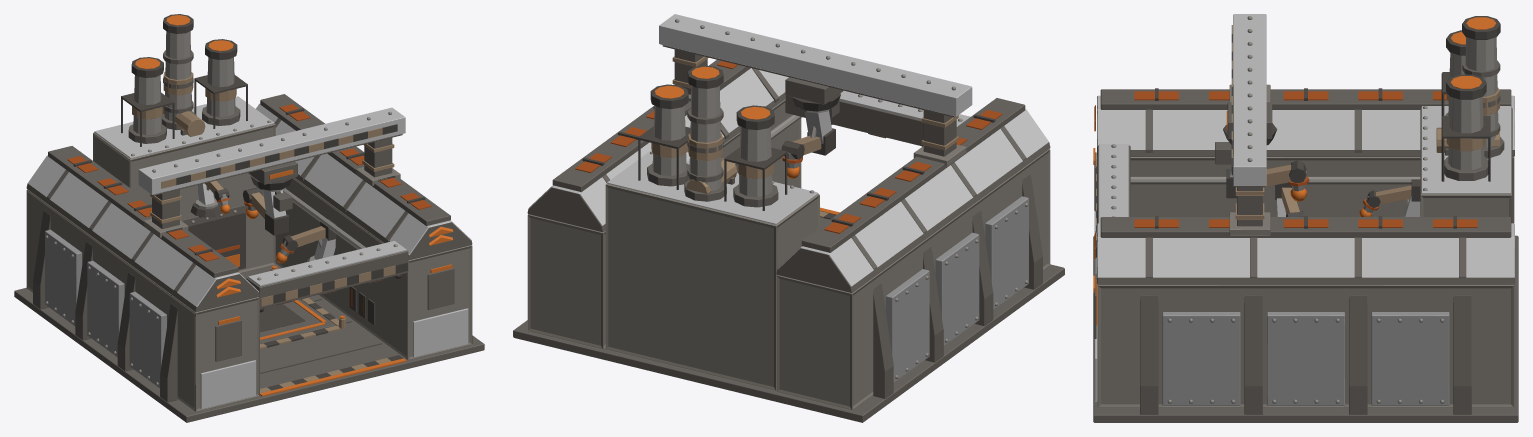
The model's file is crucible_adv_bot_lab.glb.
3 views of the same model, side by side, from view 1: azimuth 30°, elevation 25°; view 2: azimuth 150°, elevation 25°; view 3: azimuth 270°, elevation 25° (orthographic). The views are drawn at different scales.
Parts seen in each view (by area): view 1: Body; view 2: Body; view 3: Body.
Part boxes in pixels (x1,y1,x2,y2): Body: [14, 14, 484, 422]; Body: [513, 14, 1064, 422]; Body: [1093, 14, 1518, 422].
Size of the model in its own units: 22.8 by 18.35 by 22.8.
